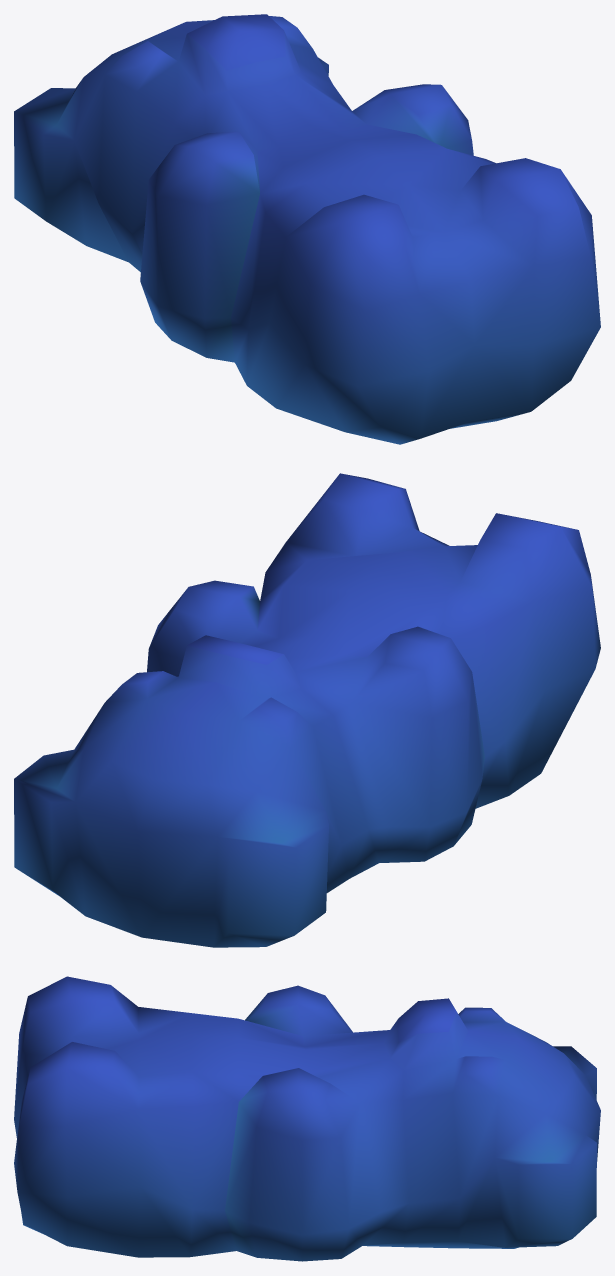
3 views of the same model, one above another, from view 1: azimuth 30°, elevation 25°; view 2: azimuth 150°, elevation 25°; view 3: azimuth 270°, elevation 25° (orthographic). The views are drawn at different scales.
Visible parts, largest first — view 1: alt449; view 2: alt449; view 3: alt449.
Part boxes in pixels (bbox=[...]): alt449: bbox=[14, 14, 600, 444]; alt449: bbox=[14, 473, 600, 947]; alt449: bbox=[14, 976, 600, 1261].
Size of the model in its own units: 0.2606 by 0.2023 by 0.5.
